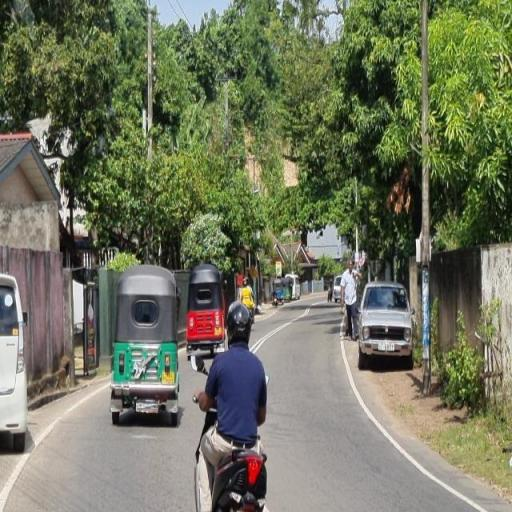double_white_line: (339, 326, 491, 511)
